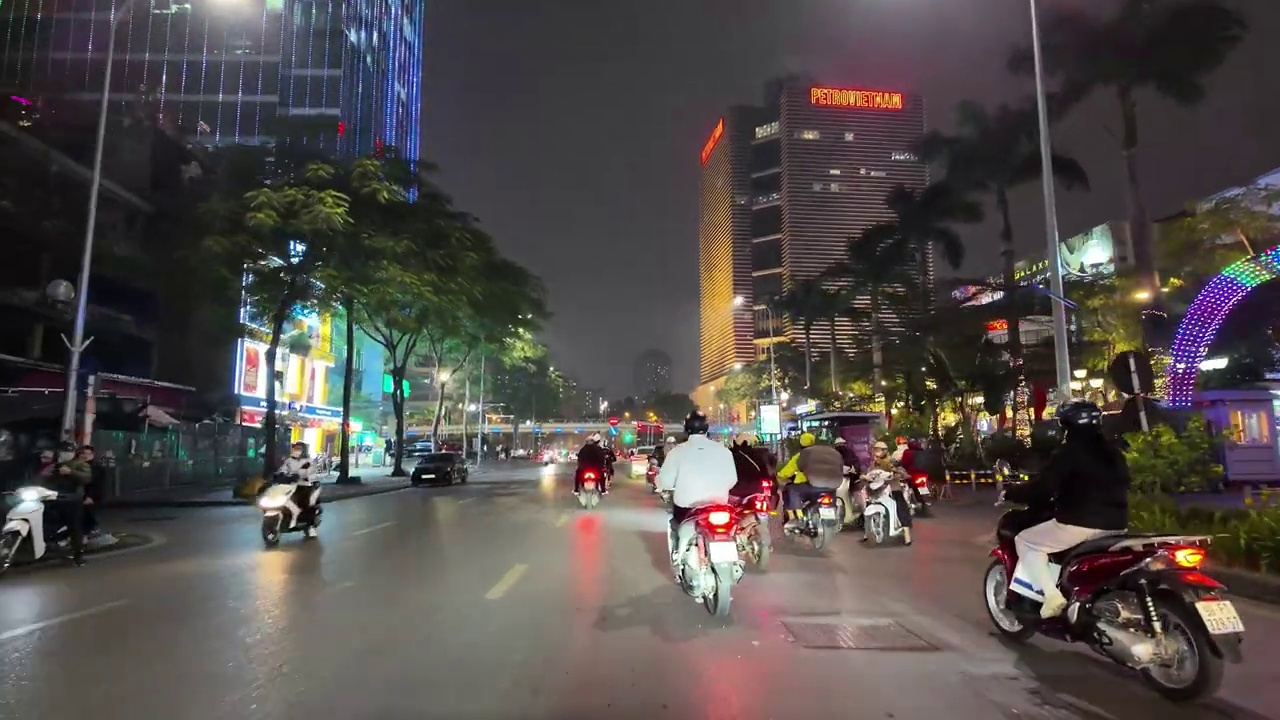apagada: (43, 274, 77, 305)
